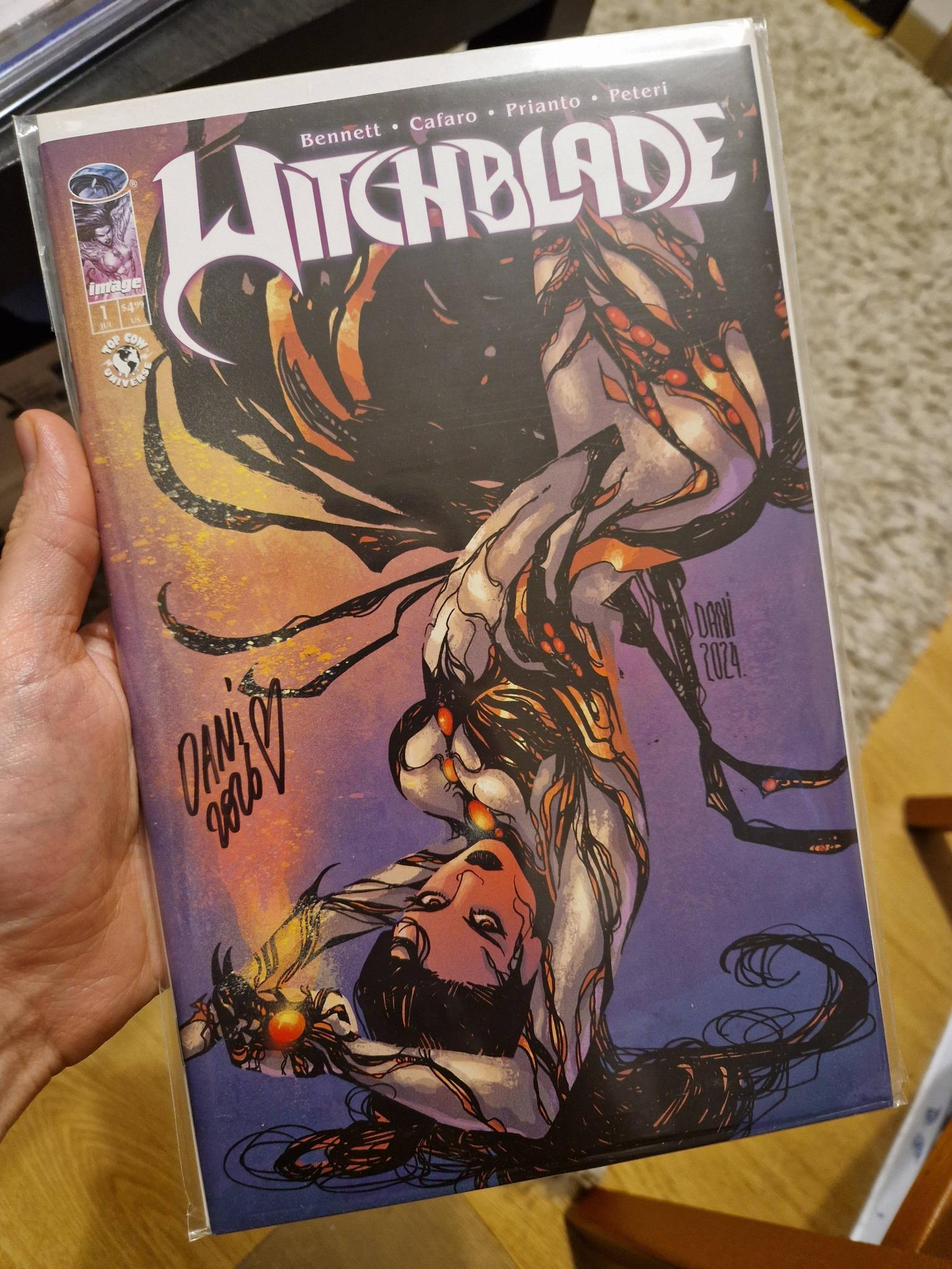comic: (18, 0, 936, 1235)
